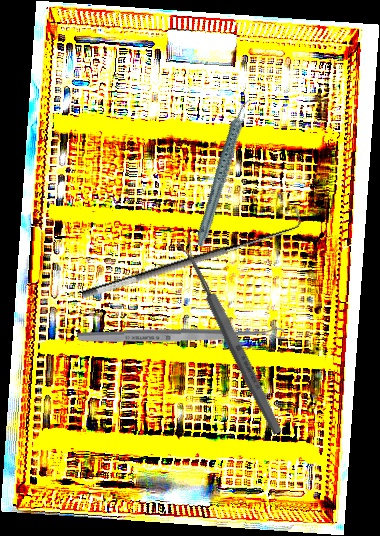Handpiece: (168, 97, 281, 248)
Hook Surgical: (75, 205, 308, 303)
Surgical Spoon: (176, 235, 285, 437), (77, 326, 285, 345)
